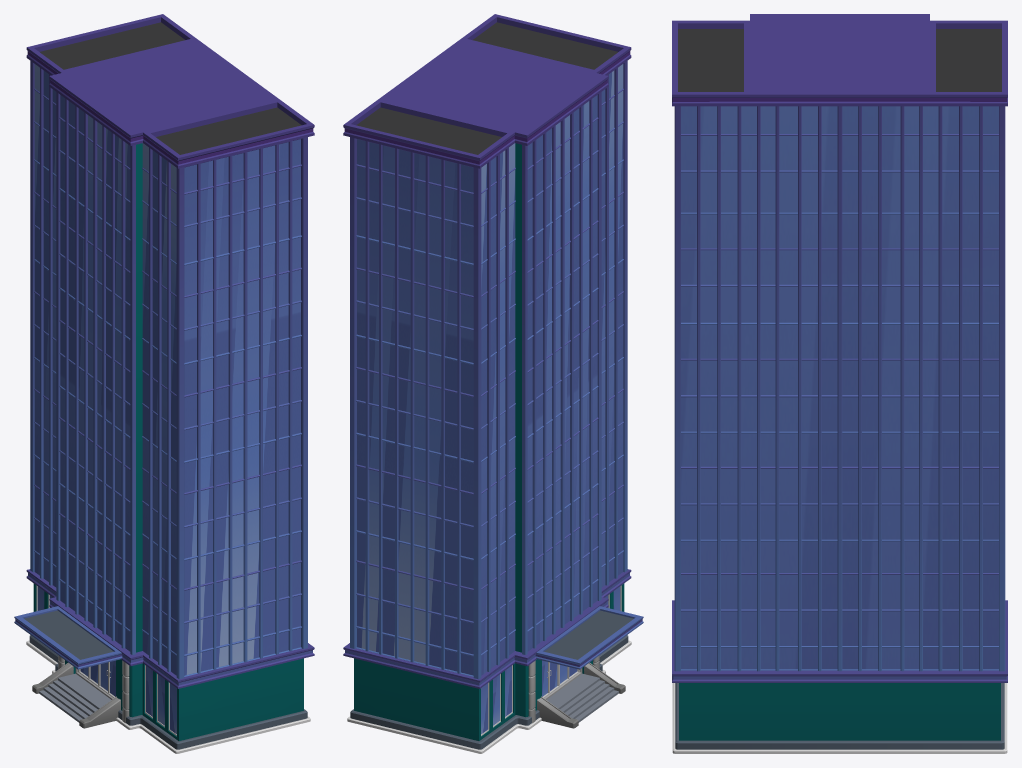
The model's file is Building_17_3_I.glb.
3 views of the same model, side by side, from view 1: azimuth 30°, elevation 25°; view 2: azimuth 150°, elevation 25°; view 3: azimuth 270°, elevation 25° (orthographic). The views are drawn at different scales.
Parts seen in each view (by area): view 1: Building_17_3_I; view 2: Building_17_3_I; view 3: Building_17_3_I.
Part boxes in pixels (x1=…): Building_17_3_I: x1=14, y1=14, x2=314, y2=753; Building_17_3_I: x1=343, y1=14, x2=643, y2=753; Building_17_3_I: x1=672, y1=14, x2=1007, y2=753.
Bounding box in the file's own units: 8.57 × 25.36 × 11.68.
4 materials, 4 textured.
